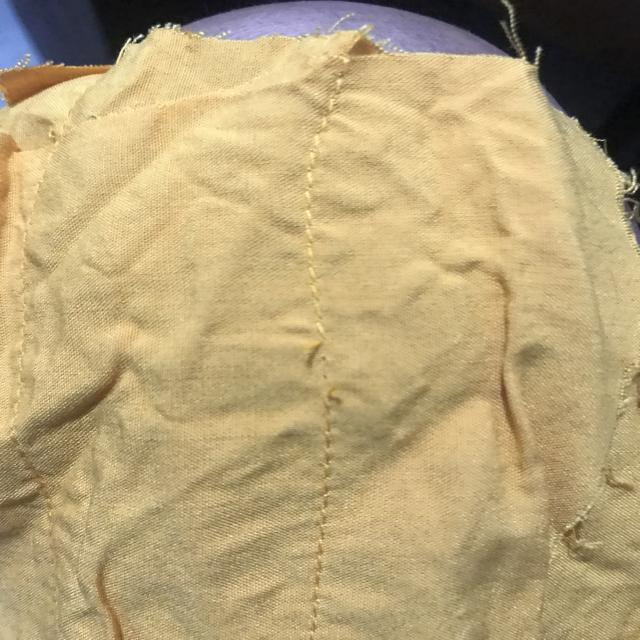broken: (302, 325, 346, 423)
good: (296, 195, 324, 291)
